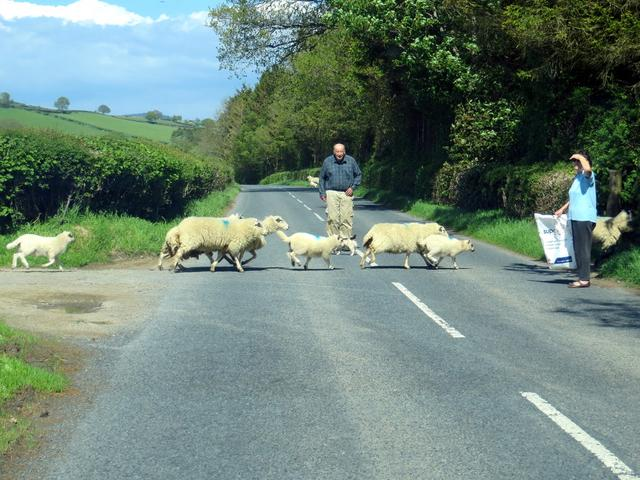sheep: (156, 207, 306, 281)
